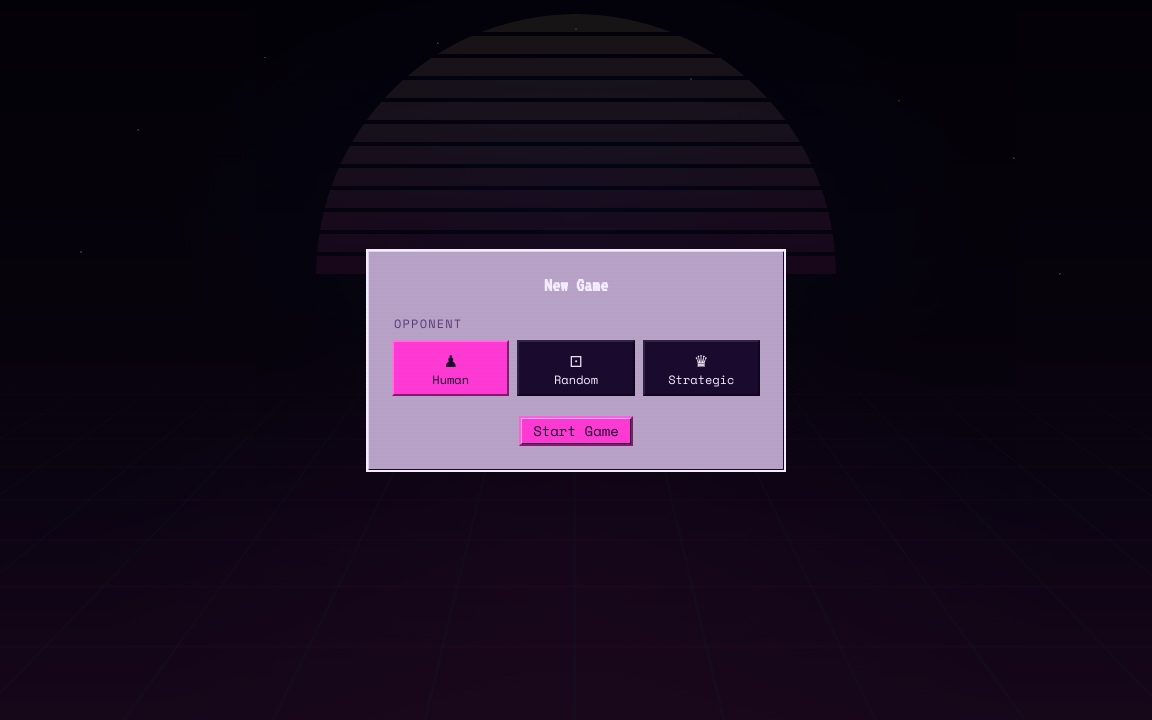
Test case: Responsive Layout (US5) › game board container uses vmin-based sizing
Click the button "Start Game" at (576, 430), box [519,416,633,446]
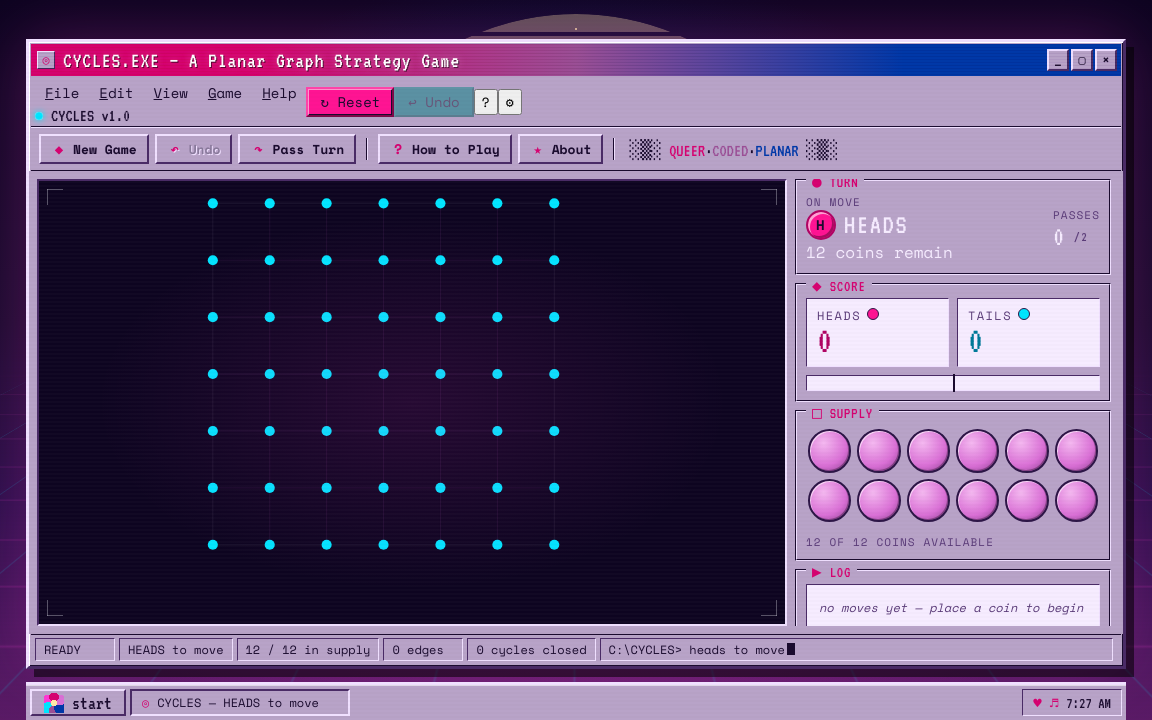
Expected: the element with class "game-board-container" is shown, [37,179,787,626]
